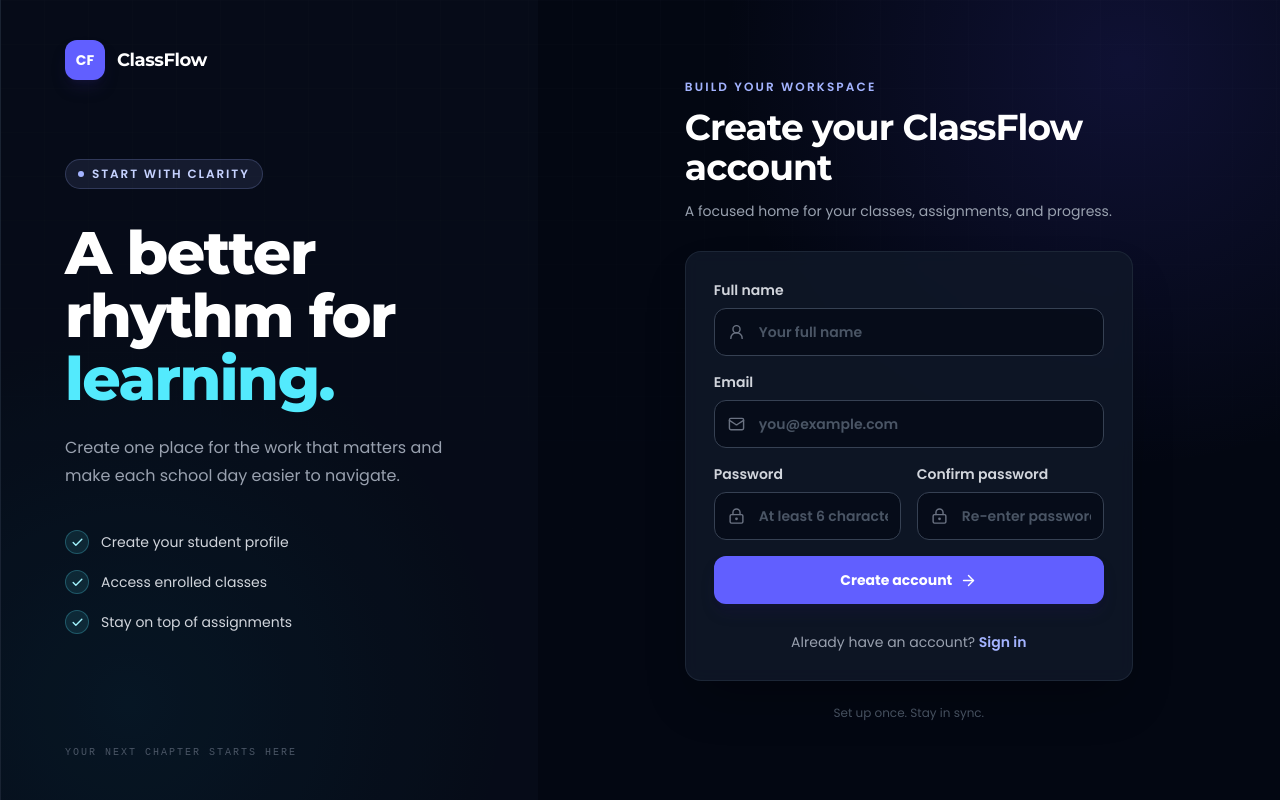
Test: Signup › shows an API error
Type "Ada Lovelace" into the field labelled "Full name".
click(909, 332); type("Ada Lovelace")  # box [714, 308, 1104, 356]
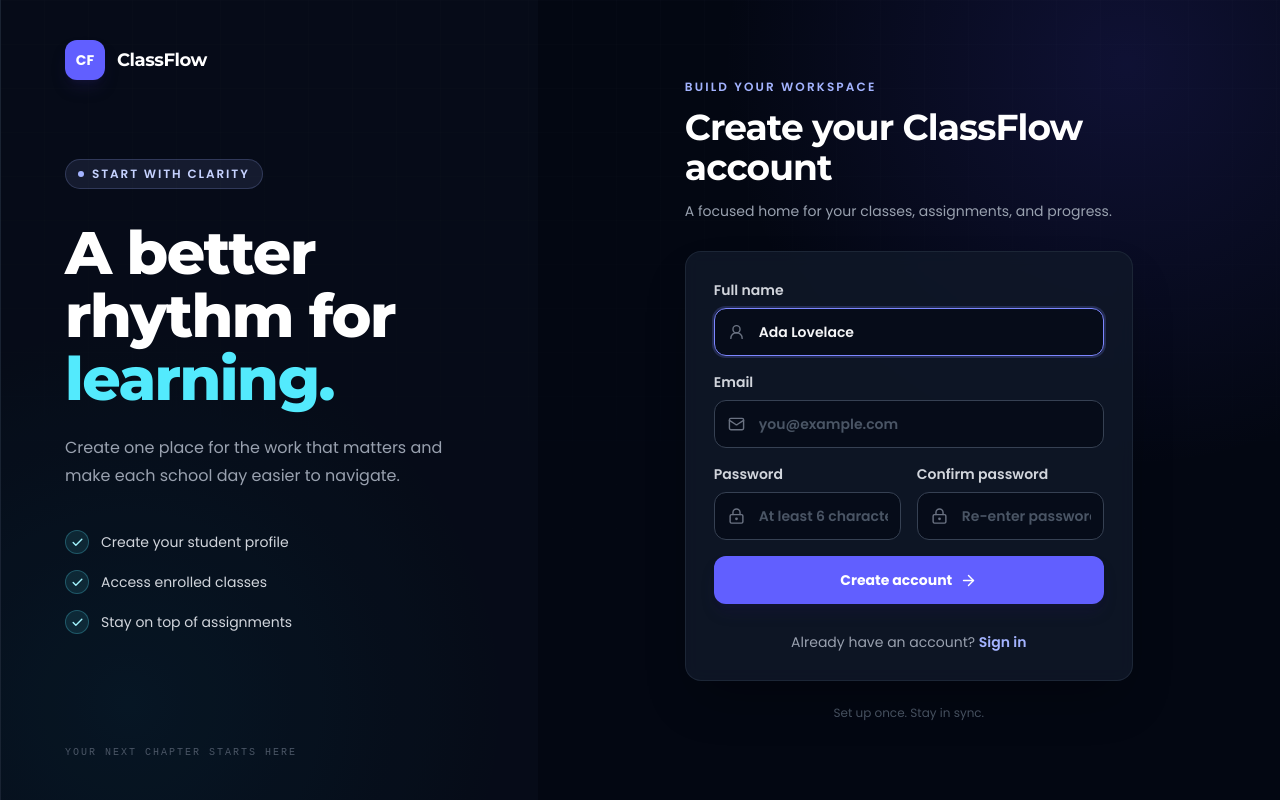
Type "ada@example.com" into the field labelled "Email".
click(909, 424); type("ada@example.com")  # box [714, 400, 1104, 448]
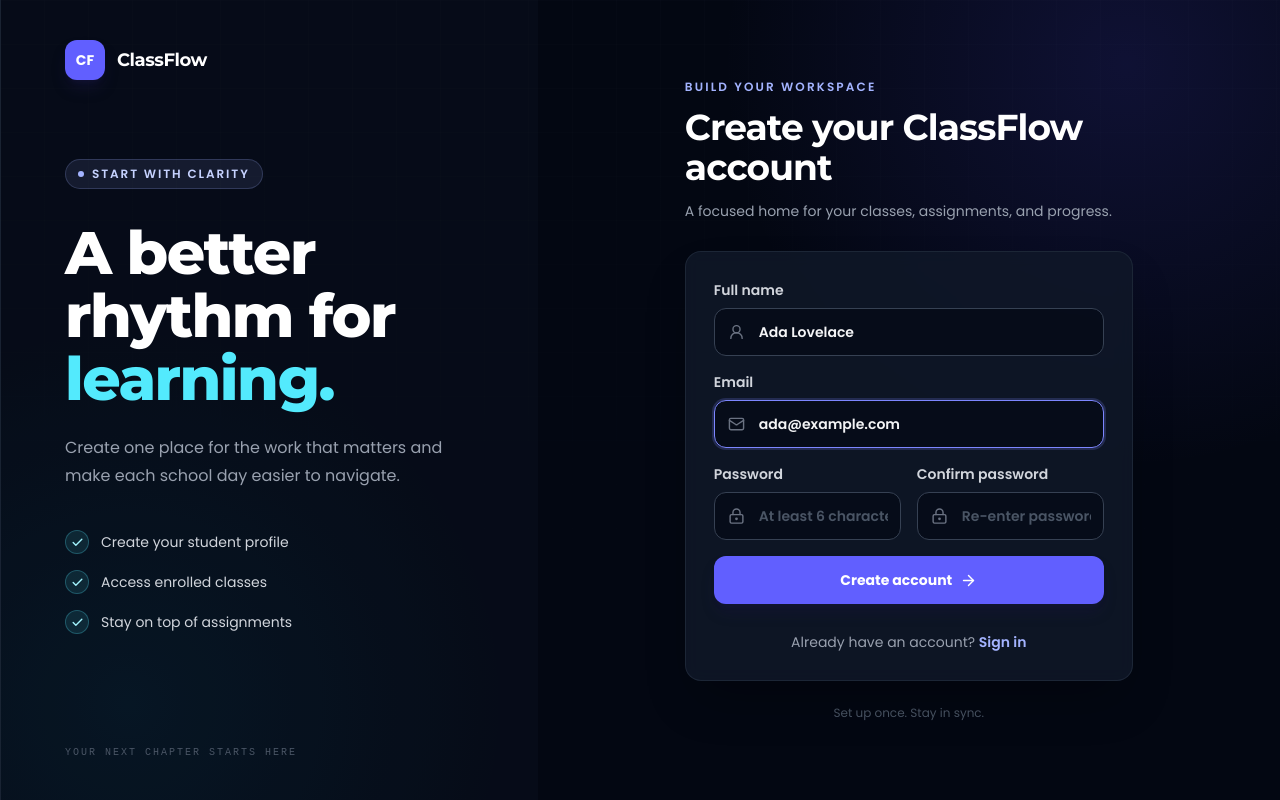
Type "secret123" into the password field labelled "Password".
click(807, 516); type("secret123")  # box [714, 492, 901, 540]
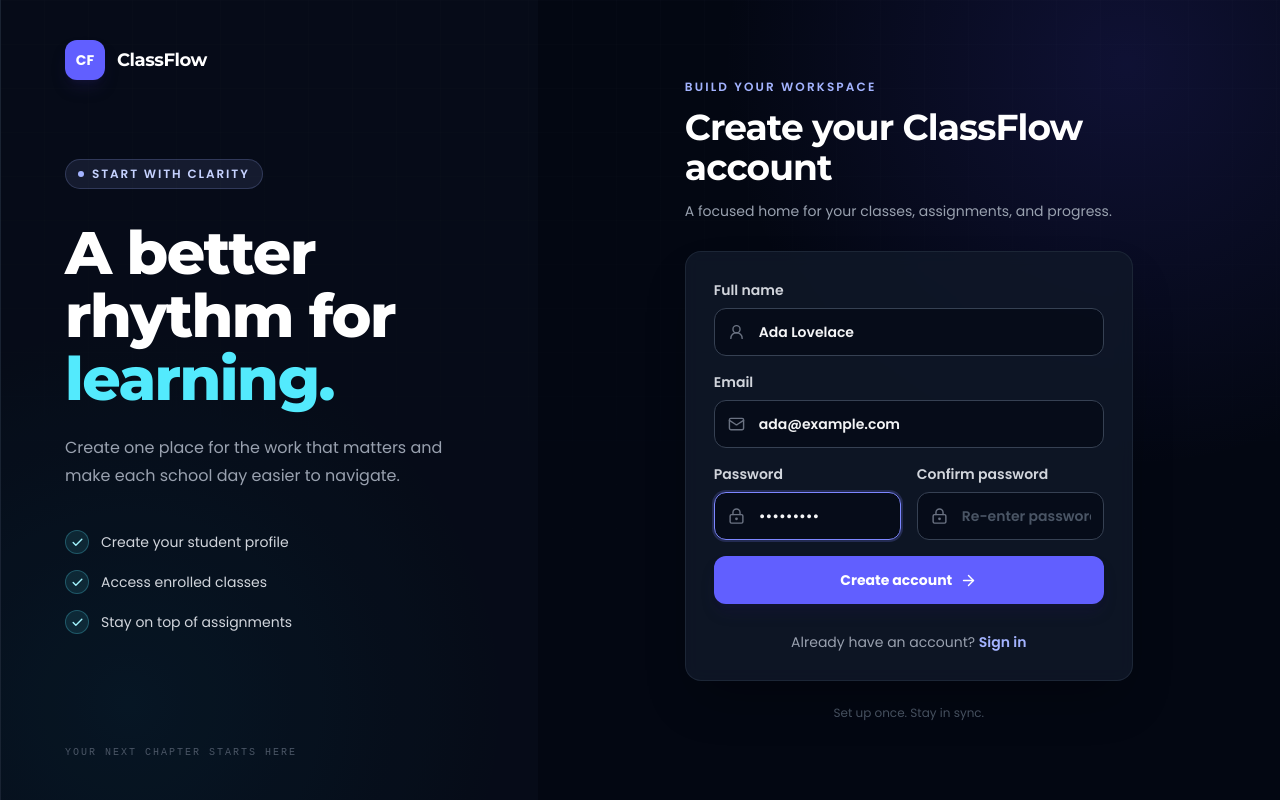
Type "secret123" into the password field labelled "Confirm password".
click(1010, 516); type("secret123")  # box [917, 492, 1104, 540]
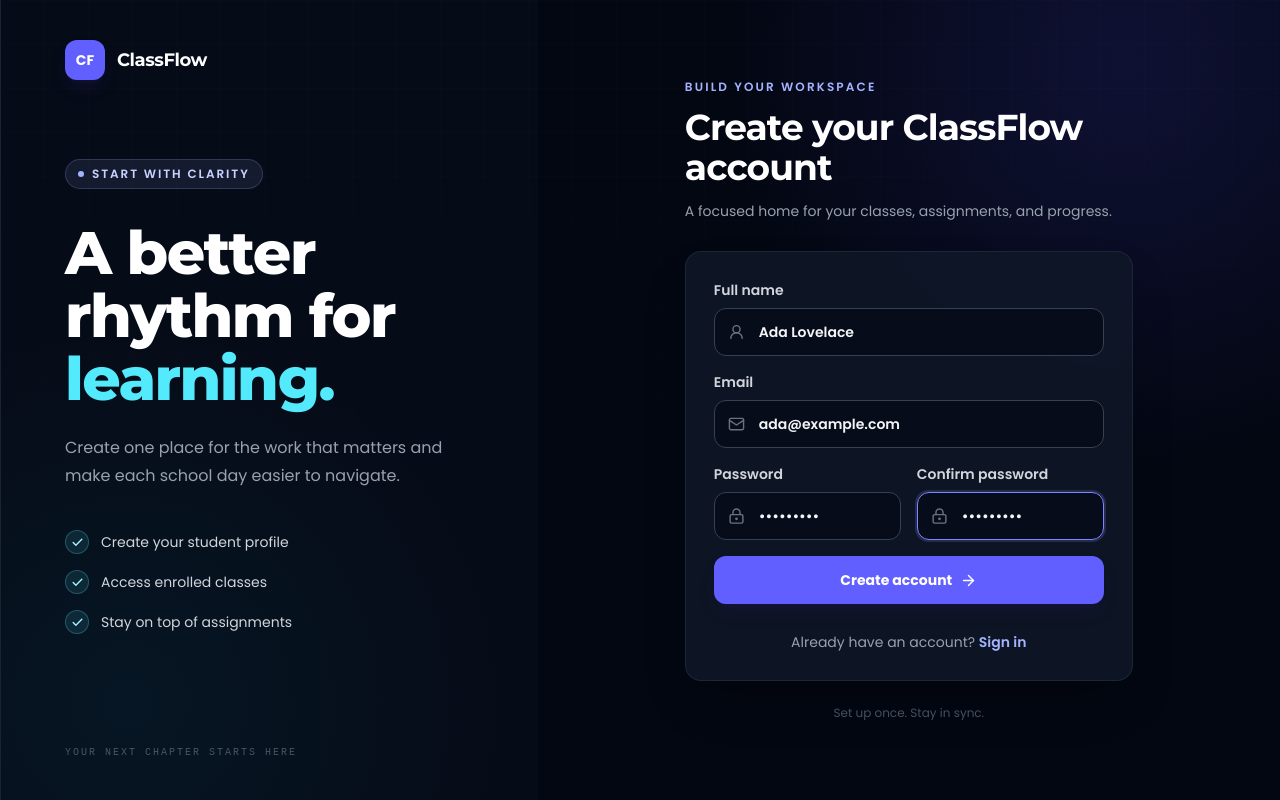
Click the button "Create account".
click(909, 580)  # box [714, 556, 1104, 604]
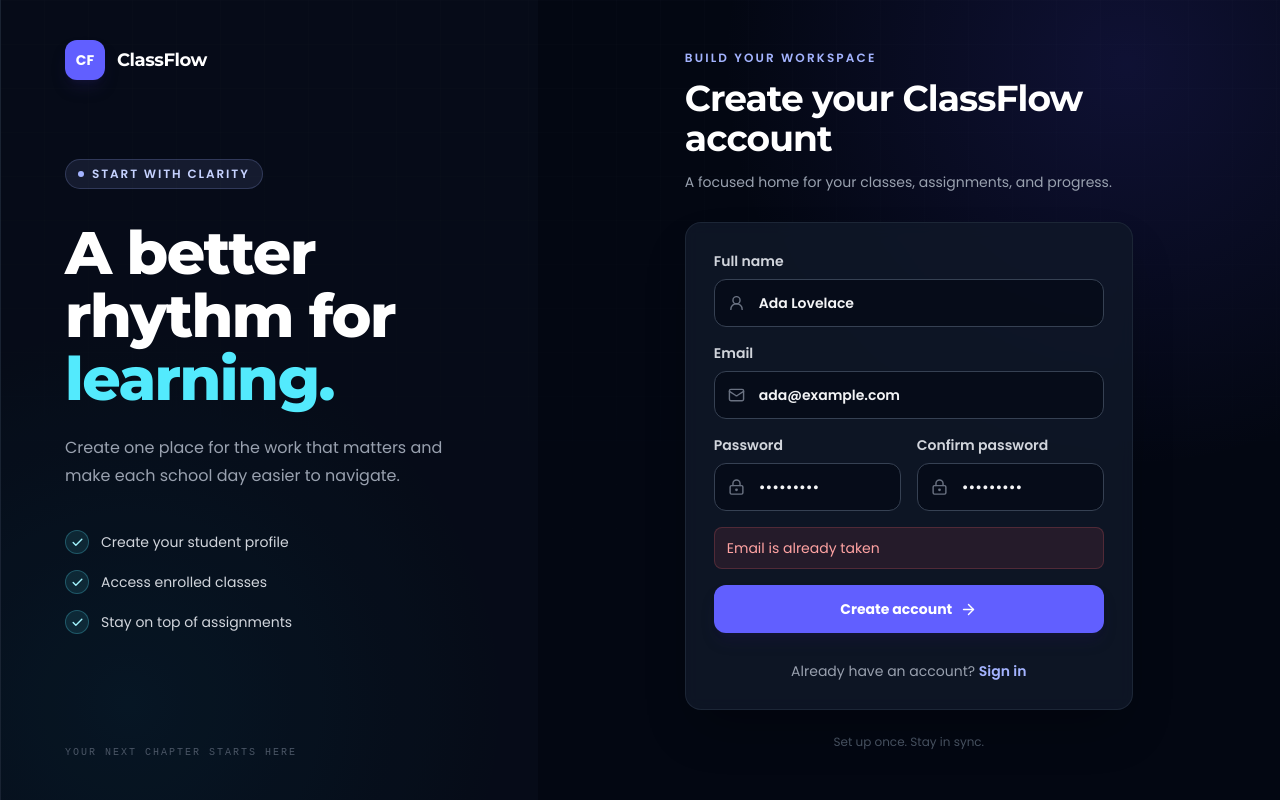
Expected: the message reads "Email is already taken", [727, 538, 880, 558]
